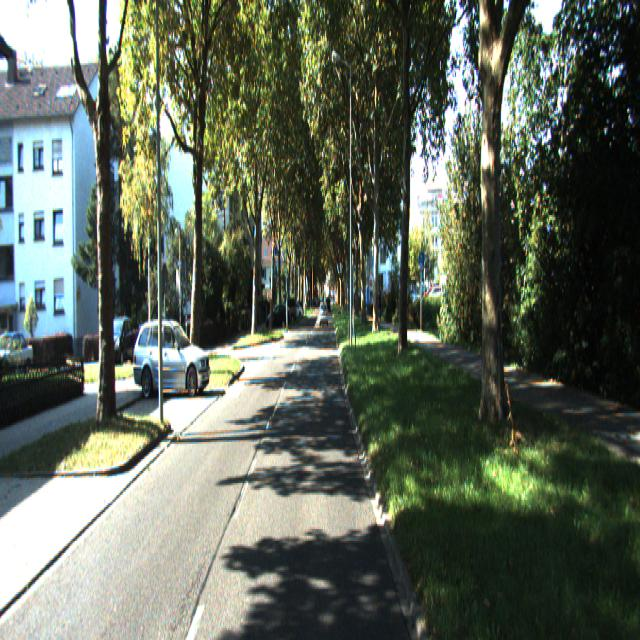Car: (131, 321, 214, 399)
